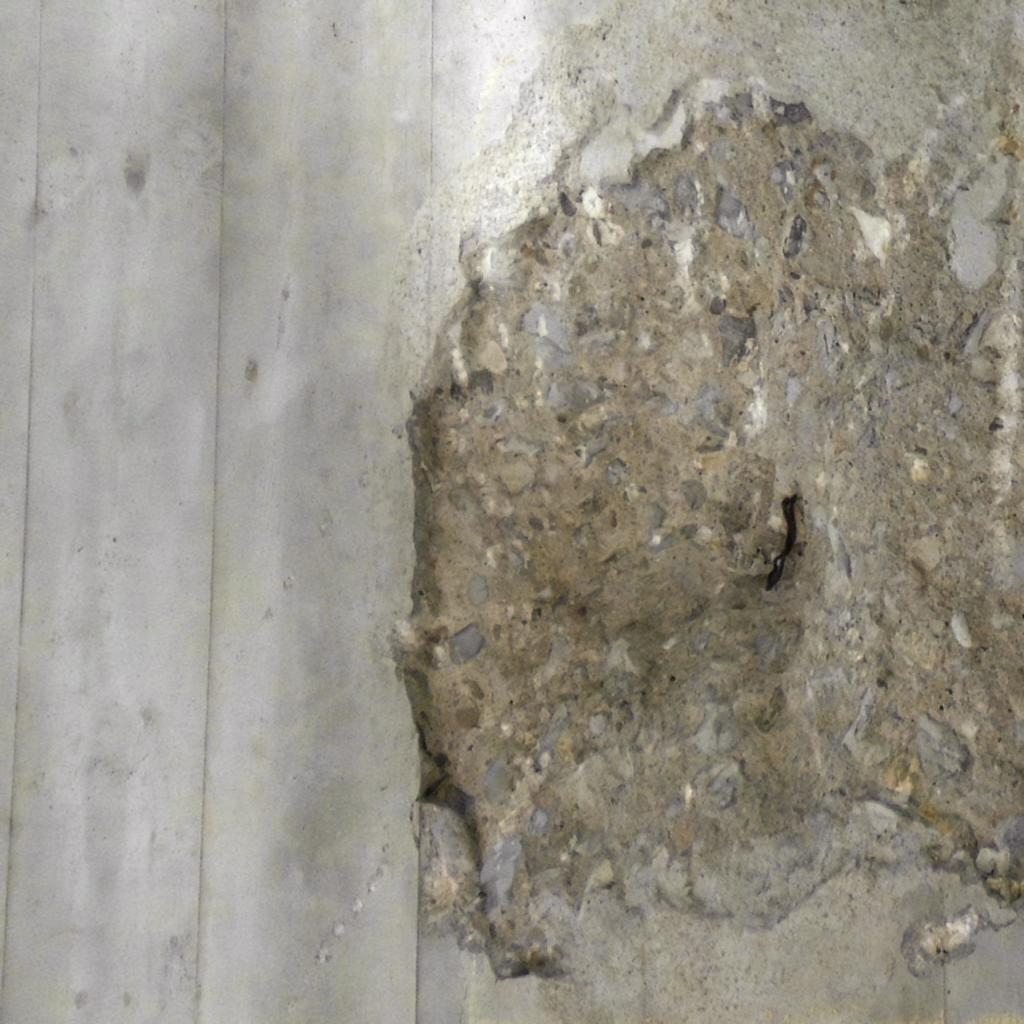exposed_rebar: (766, 494, 798, 589)
spalling: (404, 92, 1024, 1024)
